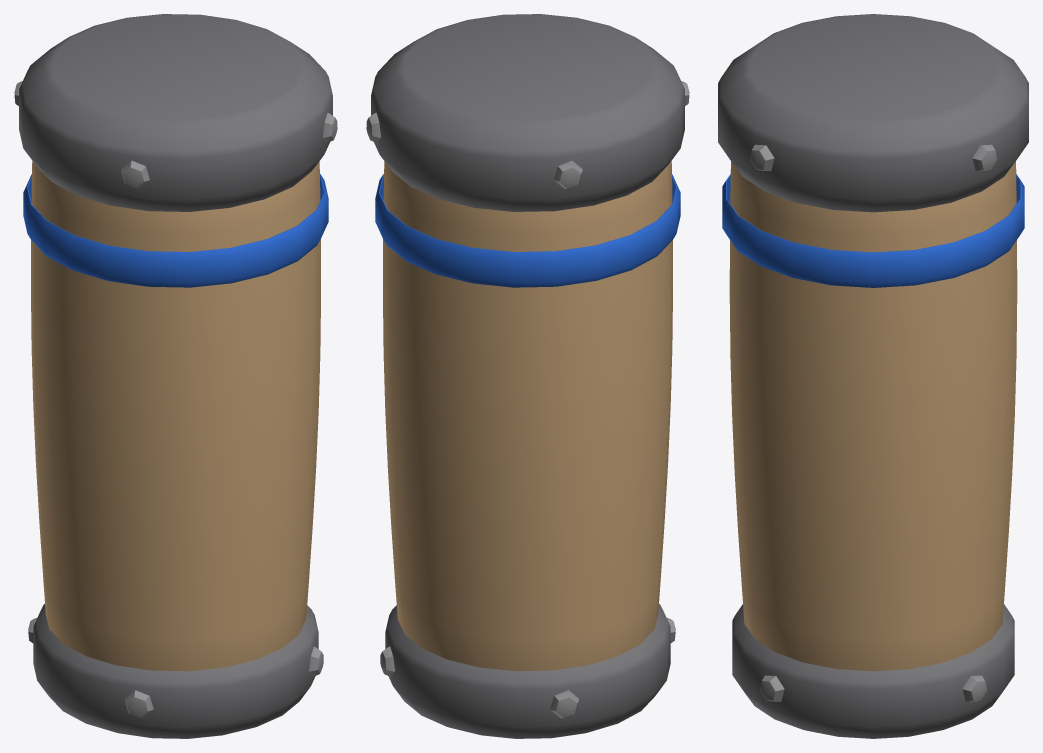
The model's file is Kit_Limb_Basic_L.glb.
The picture shows the model from 3 angles, left to right: view 1: azimuth 30°, elevation 25°; view 2: azimuth 150°, elevation 25°; view 3: azimuth 270°, elevation 25°; orthographic projection.
Visible parts, largest first — view 1: Kit_Limb_Basic_L; view 2: Kit_Limb_Basic_L; view 3: Kit_Limb_Basic_L.
Boxes of the visible parts, bbox=[...] form: Kit_Limb_Basic_L: bbox=[14, 14, 337, 738]; Kit_Limb_Basic_L: bbox=[366, 14, 689, 738]; Kit_Limb_Basic_L: bbox=[718, 14, 1028, 738].
Bounding box in the file's own units: 0.1628 × 0.354 × 0.1611.
